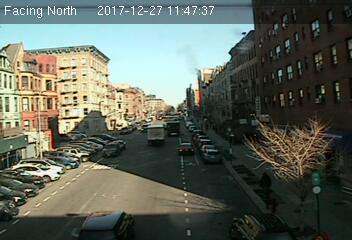car: (74, 205, 140, 240), (228, 214, 292, 240), (177, 141, 196, 157), (202, 148, 221, 163), (102, 143, 121, 157)
truck: (146, 125, 166, 144)
ups: (165, 121, 181, 136)
